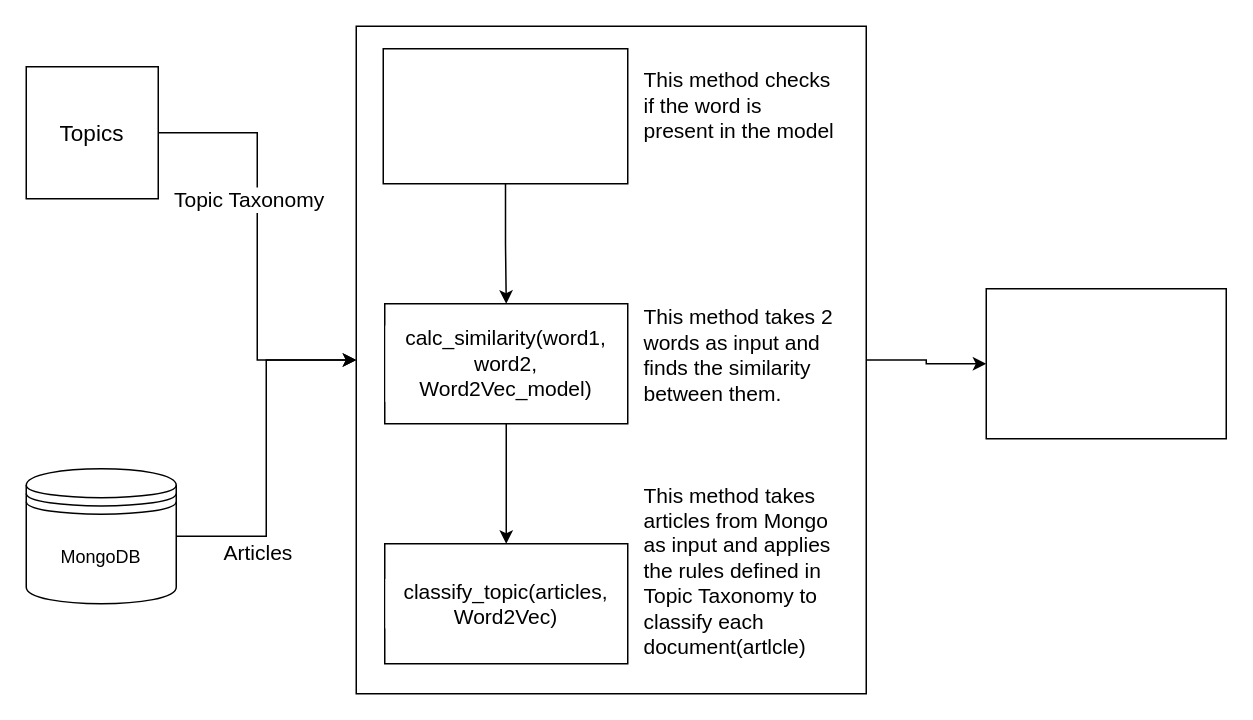
The diagram is 1253 pixels wide and 720 high, and some of its shapes have lost their labels. Each missing label, with the centre of its shape:
"Topic Classification" goes at [1105,363].
"vocab_check (Word2Vec?_model, words )" goes at [505,115].
